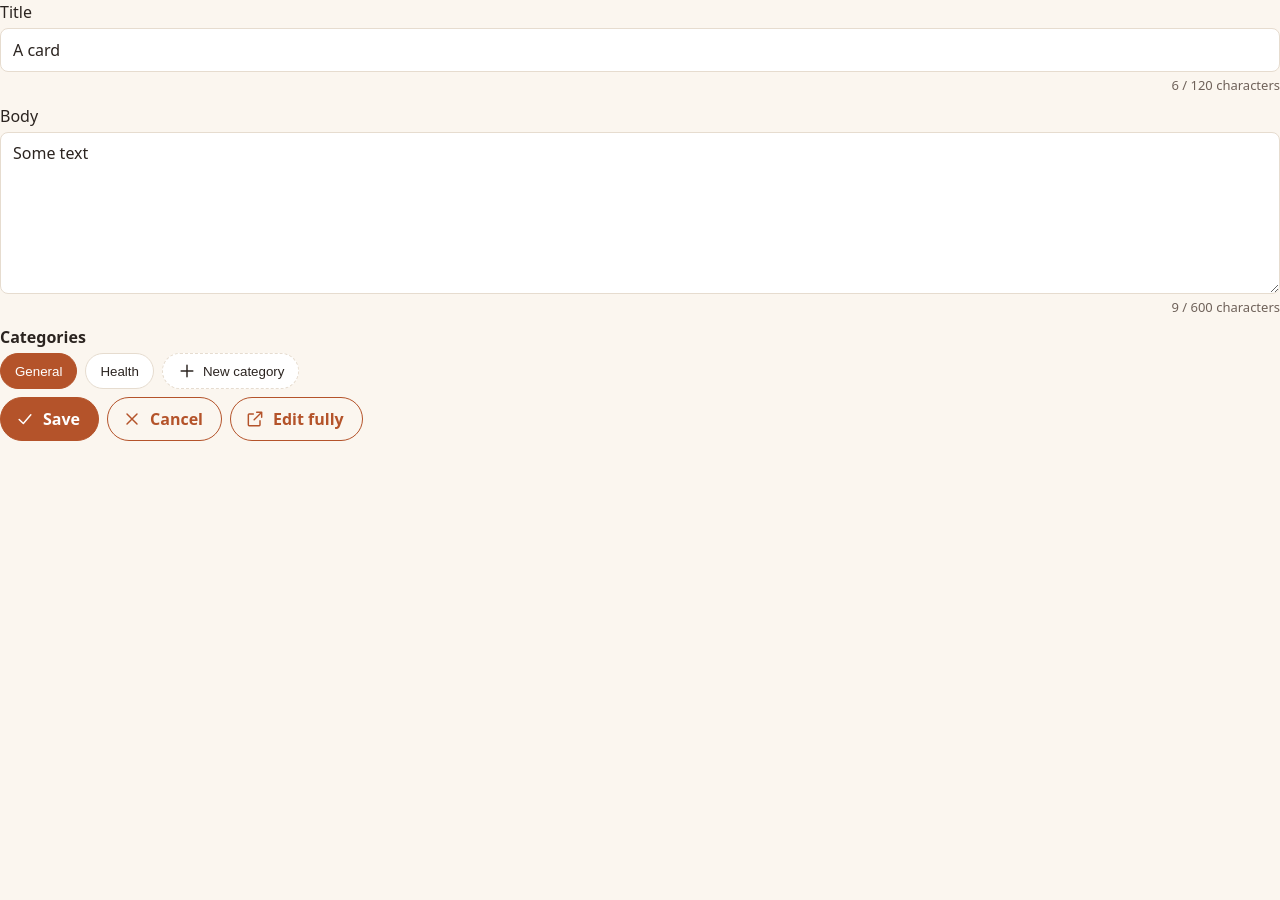
ReviewEditForm: unsaved-changes guard (022 FR-010) › Cancel with changes asks; Keep editing keeps them
Step 1. Replace the text in the field labelled "Title" with "Renamed" → (640, 50), box left=0, top=28, right=1279, bottom=72
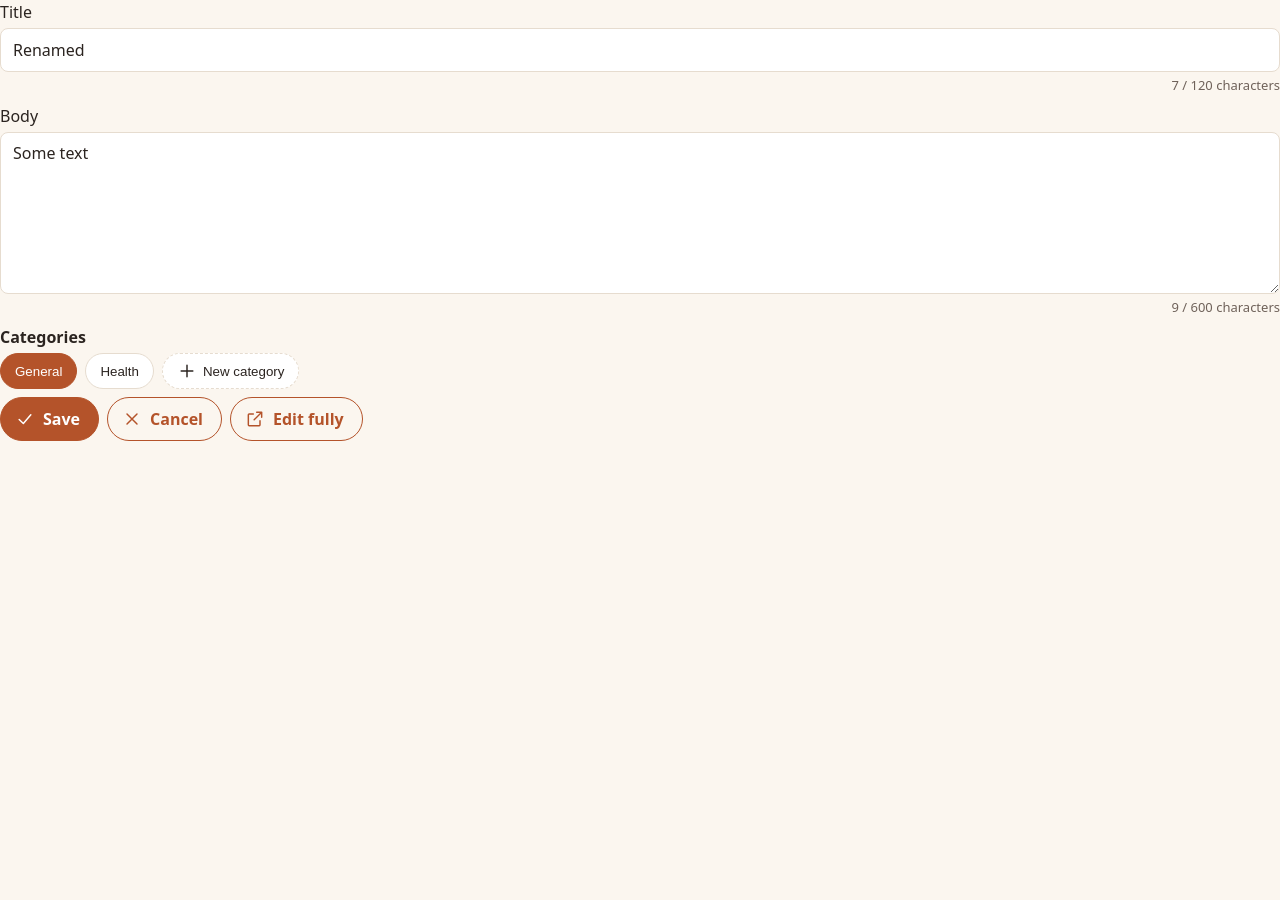
Step 2. Click the button "Cancel" → (164, 419), box left=107, top=397, right=222, bottom=441
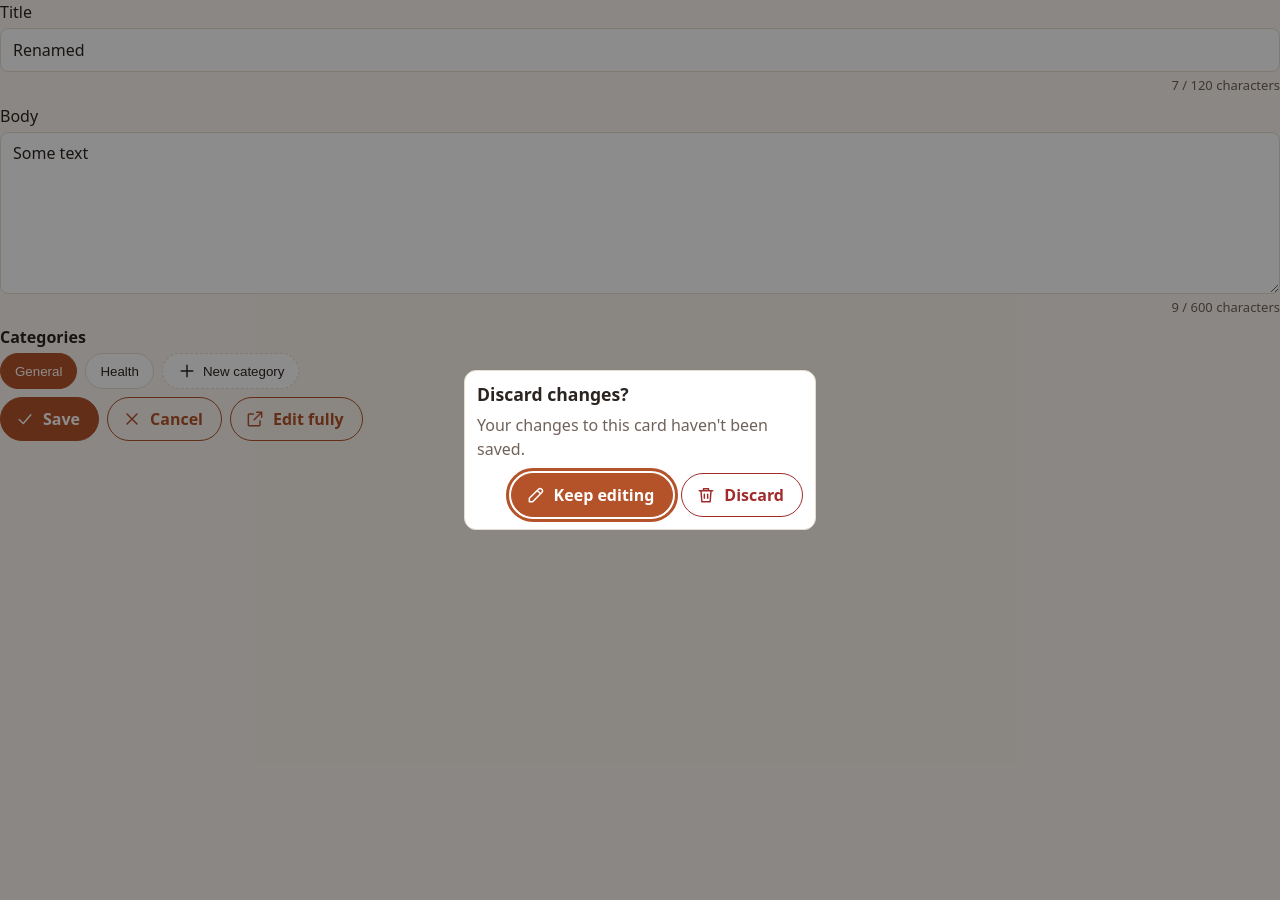
Check: the dialog "Discard changes?" is shown, box left=464, top=370, right=816, bottom=530
Step 3. Click the button "Keep editing" → (592, 495), box left=511, top=473, right=673, bottom=517
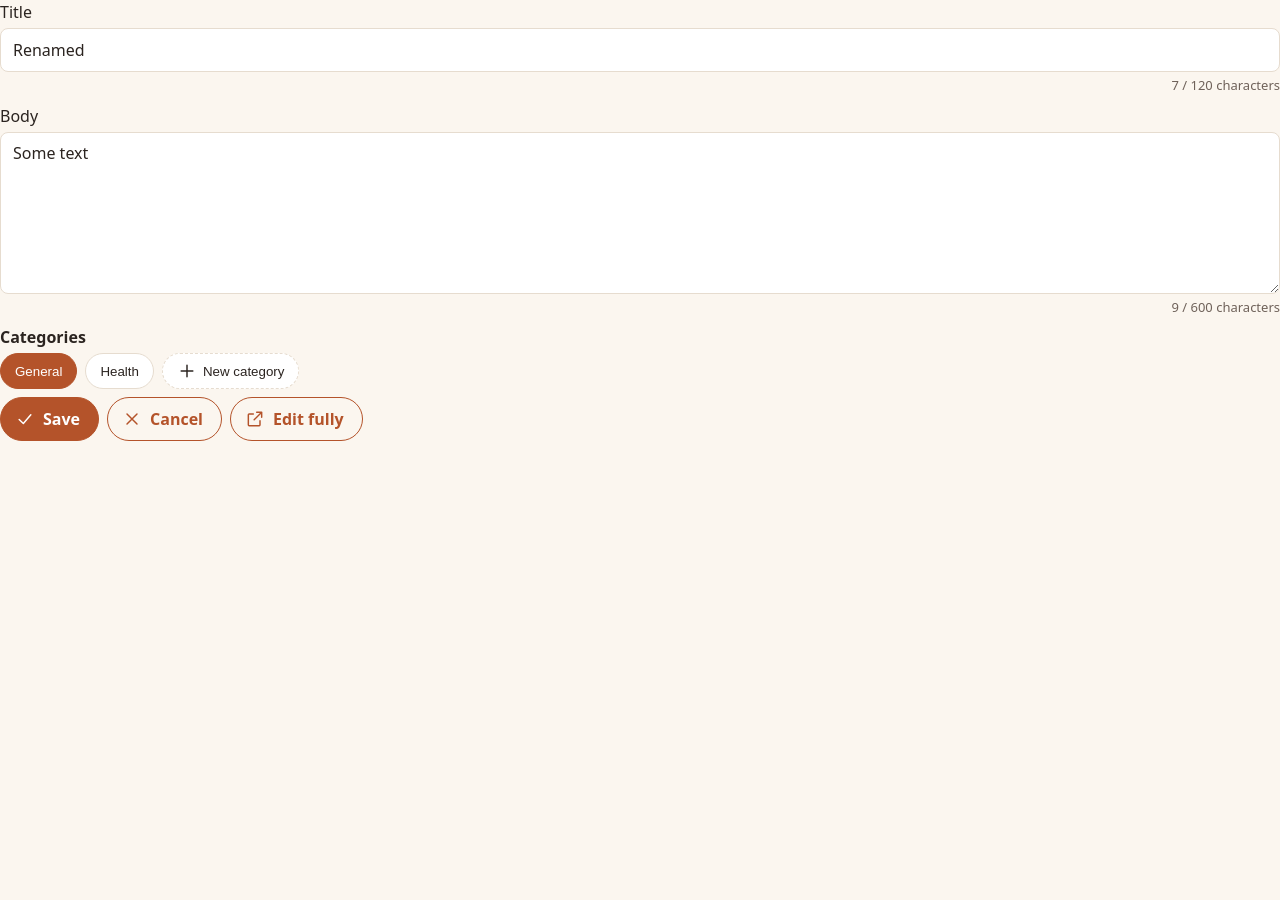
Check: the dialog is gone
